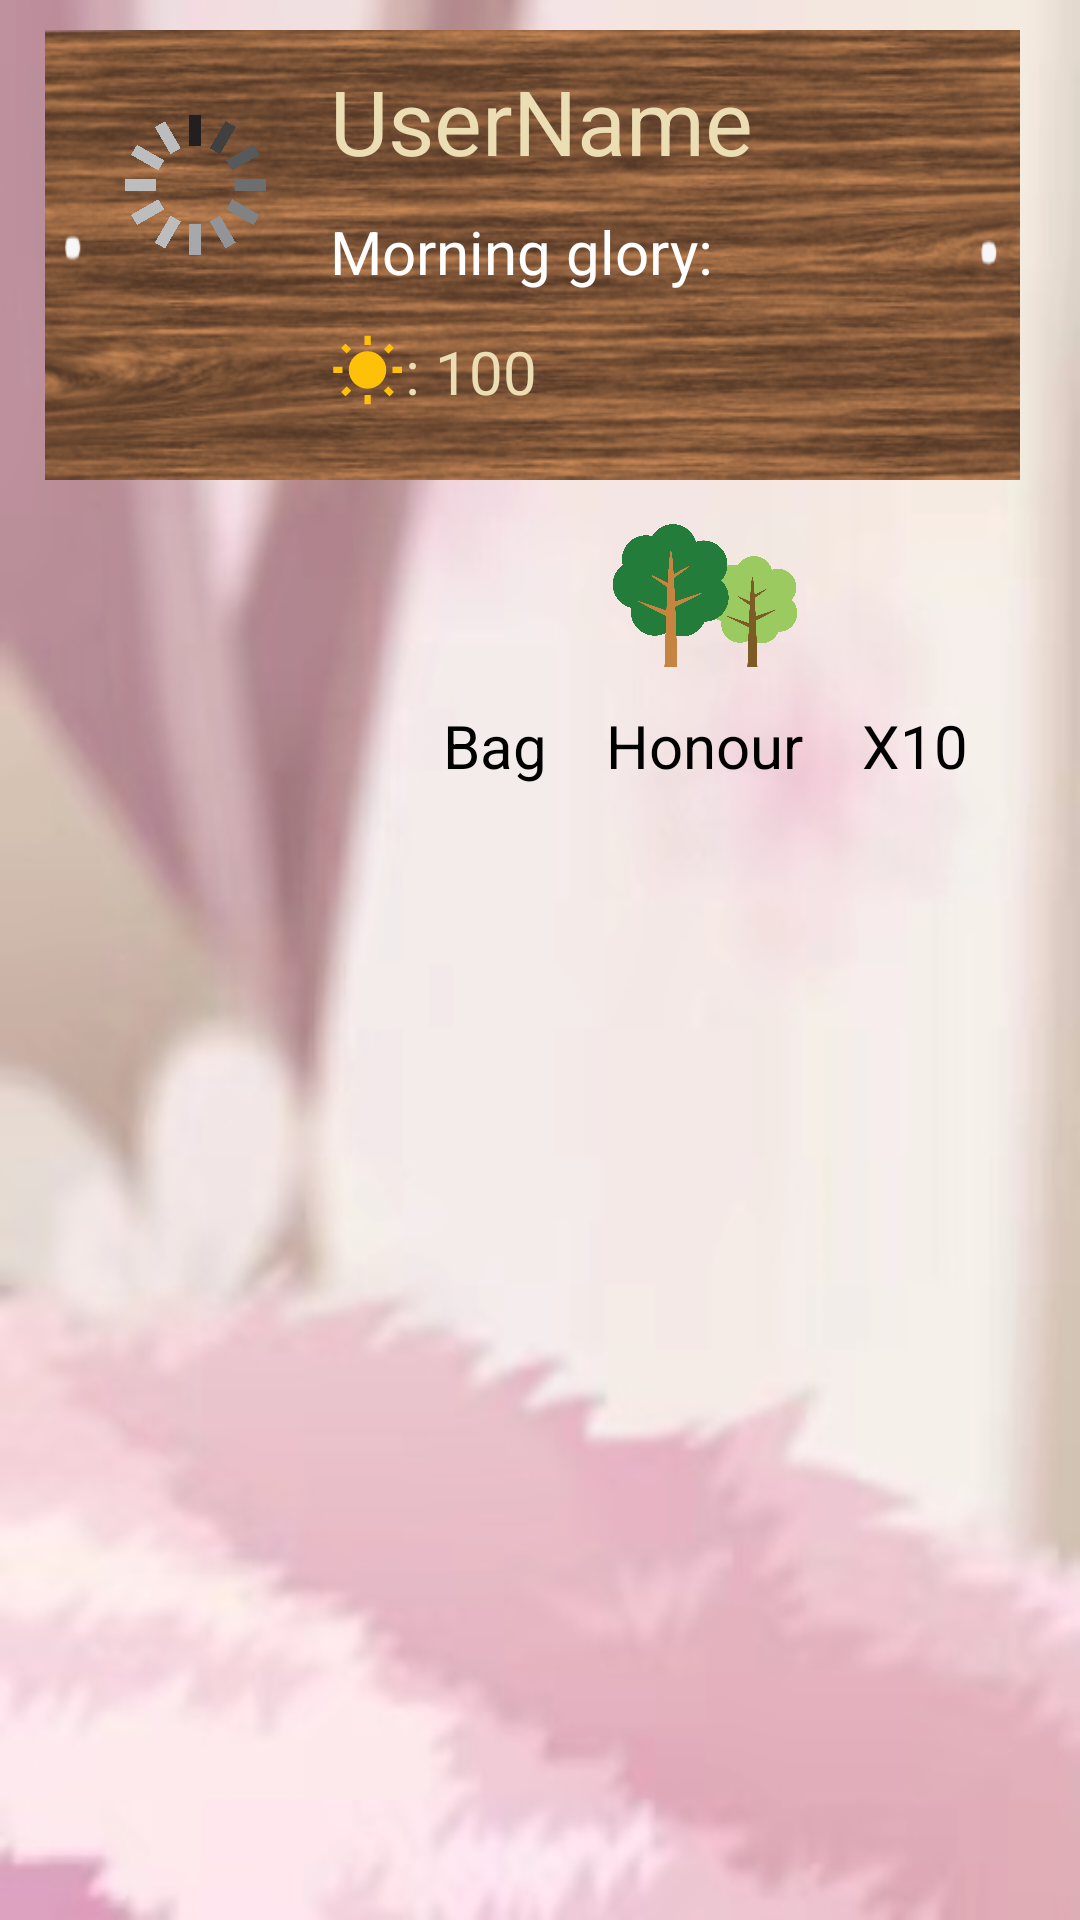

Icons on this 1080*1920 Android screen, each with the point to tap as (x,y):
sunny: (367,371)
